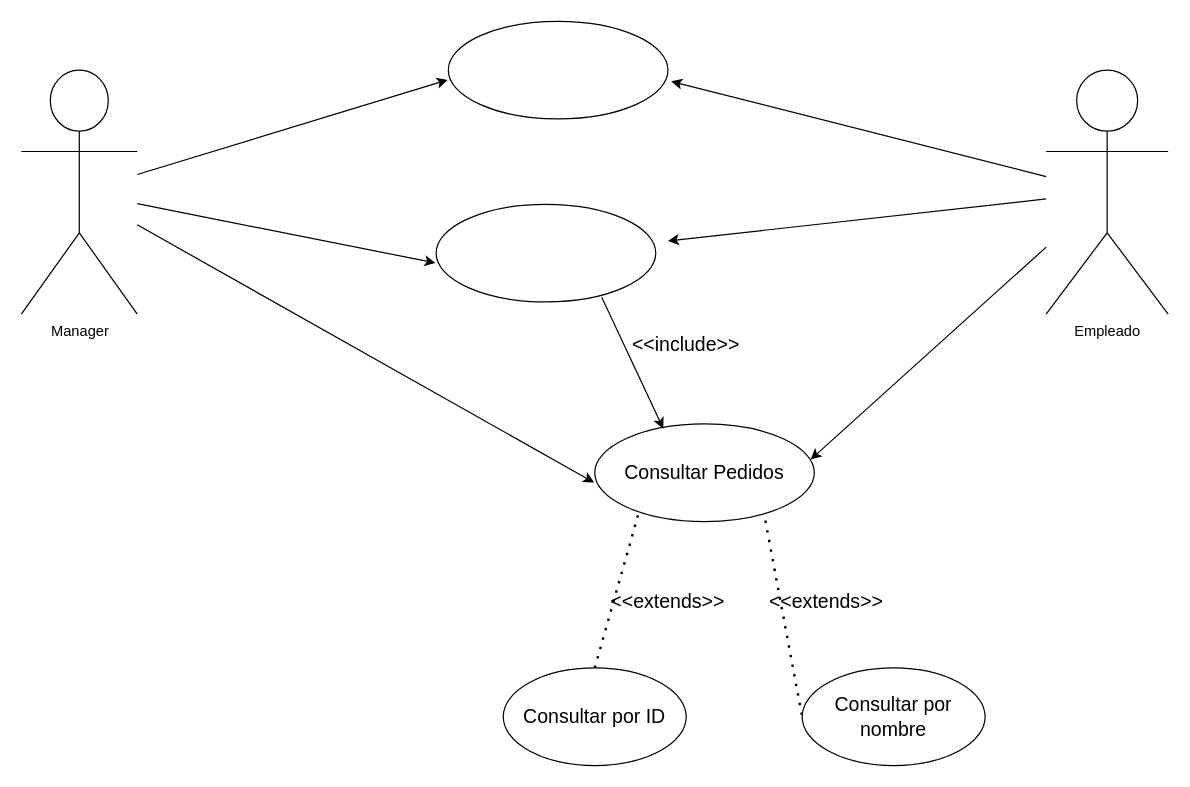
The diagram is 1190 pixels wide and 787 high, and some of its shapes have lost their labels. The centre of each missing label's shape, as x and y in pixels:
Borrar Pedidos: point (545, 252)
Crear Pedidos: point (557, 69)
